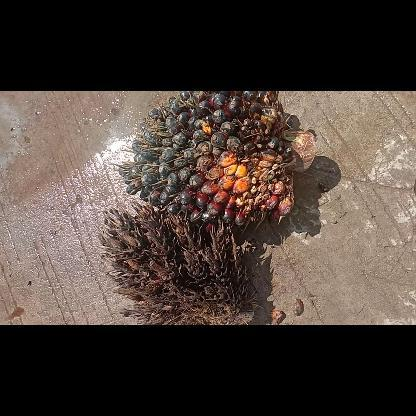Janjang kosong: (98, 202, 262, 324)
TBS mentah: (113, 90, 314, 233)
